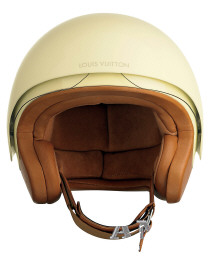helmet: (5, 16, 204, 201)
